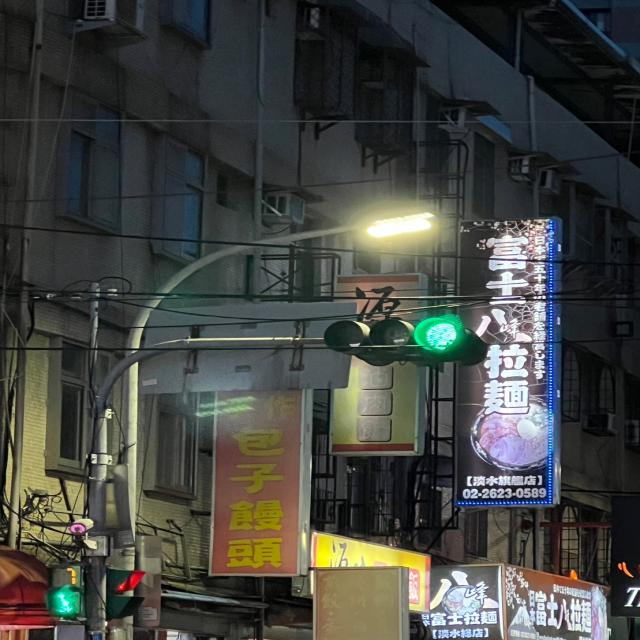green light: (324, 314, 478, 365)
